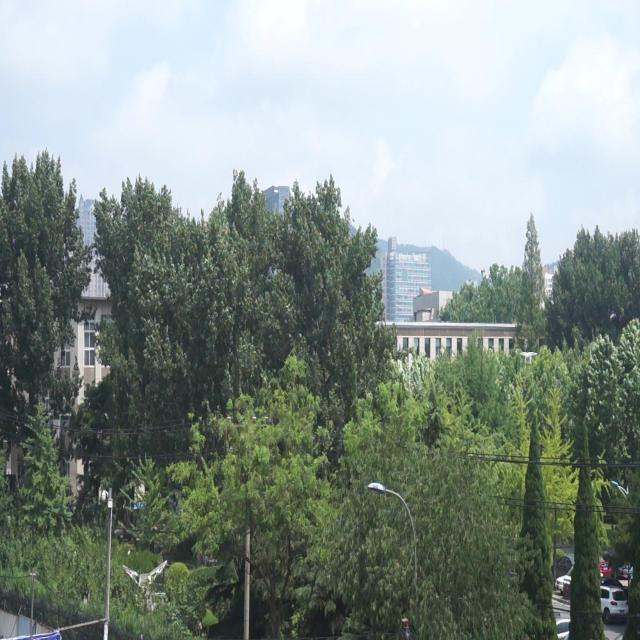drone: (519, 350, 539, 365)
